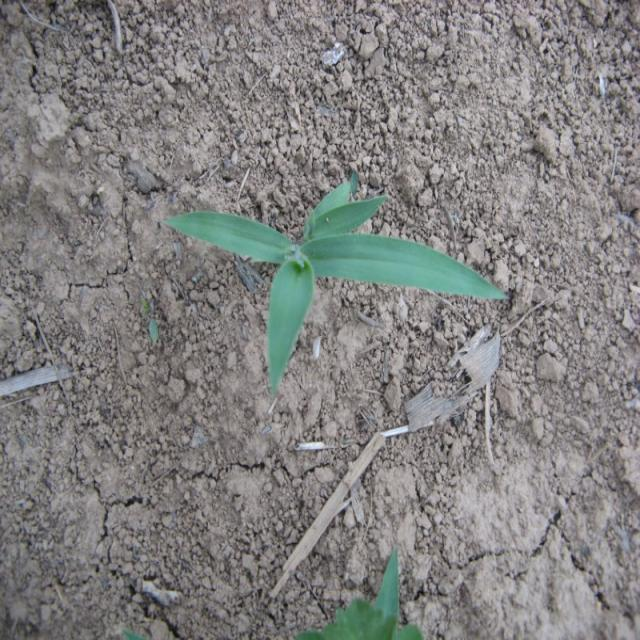bg: (165, 167, 509, 382)
